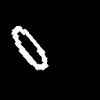chain: (12, 26, 47, 69)
